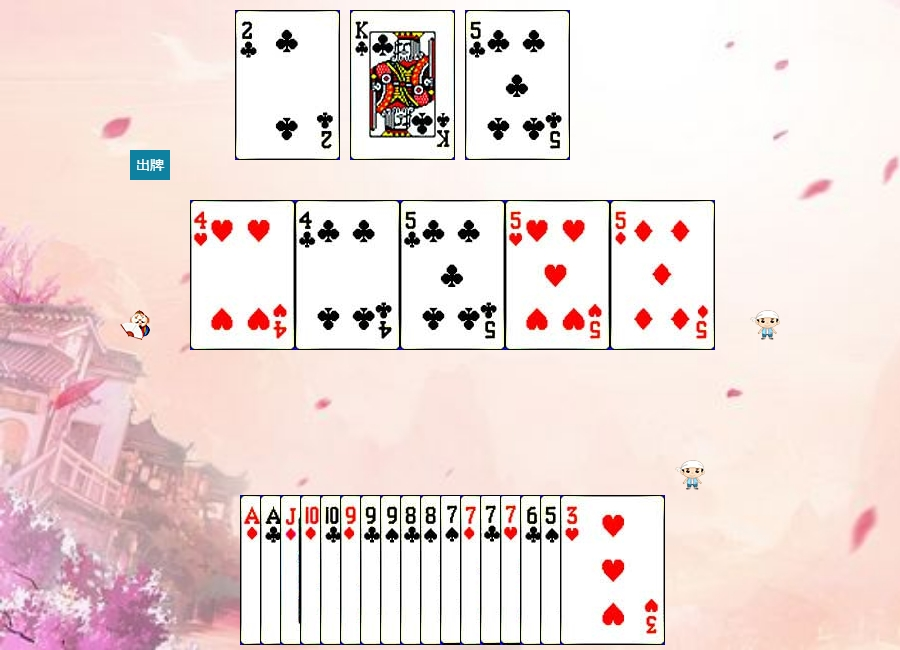10~1: (300, 495, 405, 645)
10~2: (320, 495, 425, 645)
11~1: (280, 495, 385, 645)
13~2: (350, 10, 455, 160)
14~1: (240, 495, 345, 645)
14~2: (260, 495, 365, 645)
15~2: (235, 10, 340, 160)
3~3: (560, 495, 665, 645)
4~2: (295, 200, 400, 350)
4~3: (190, 200, 295, 350)
5~1: (610, 200, 715, 350)
5~2: (465, 10, 570, 160), (400, 200, 505, 350)
5~3: (505, 200, 610, 350)
5~4: (540, 495, 645, 645)
6~2: (520, 495, 625, 645)
7~1: (460, 495, 565, 645)
7~2: (480, 495, 585, 645)
7~3: (500, 495, 605, 645)
7~4: (440, 495, 545, 645)
8~2: (400, 495, 505, 645)
8~4: (420, 495, 525, 645)
9~1: (340, 495, 445, 645)
9~2: (360, 495, 465, 645)
9~4: (380, 495, 485, 645)
